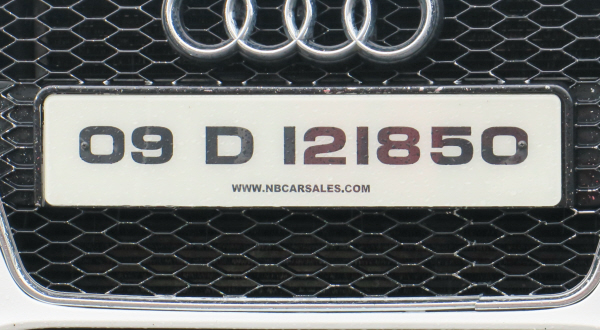license_plate: (35, 87, 570, 213)
